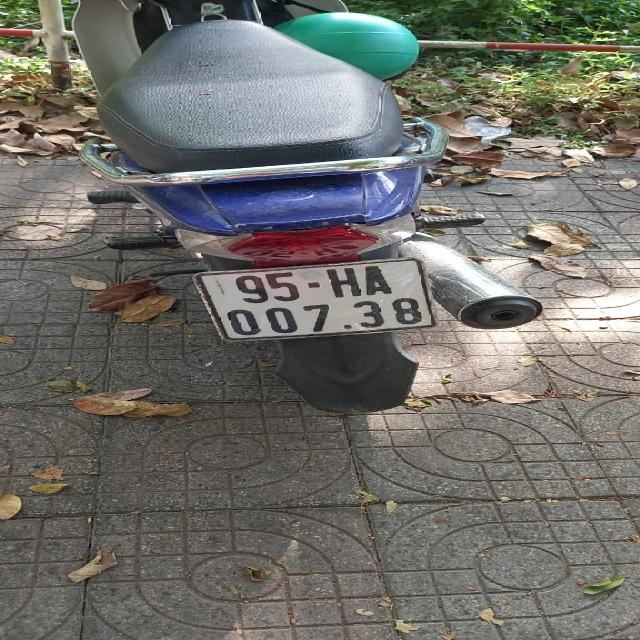0: (260, 308, 298, 334), (228, 309, 260, 336)
3: (351, 300, 390, 330)
5: (266, 272, 303, 301)
7: (302, 303, 330, 333)
8: (391, 297, 425, 325)
9: (235, 274, 266, 304)
A: (362, 265, 393, 296)
H: (326, 267, 362, 298)
